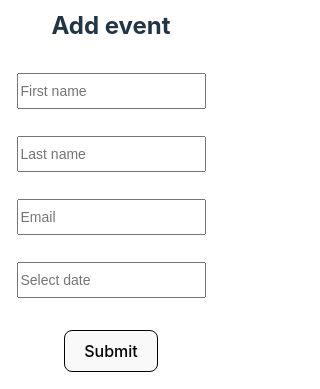
Test: Test add event form › with invalid input › should render email validation message
Type "abc@blabla" into the field with placeholder "Email" at (111, 217), box [16, 199, 206, 235]
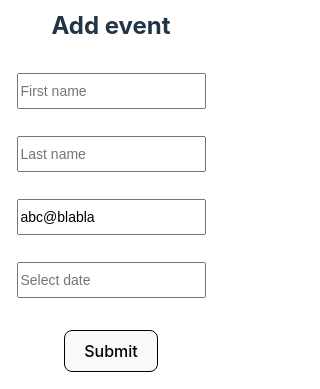
Click the button at (111, 351), box [64, 330, 158, 372]
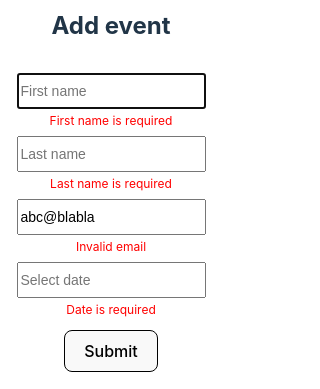
expect the text "Invalid email" is shown: met, box [76, 235, 146, 247]
